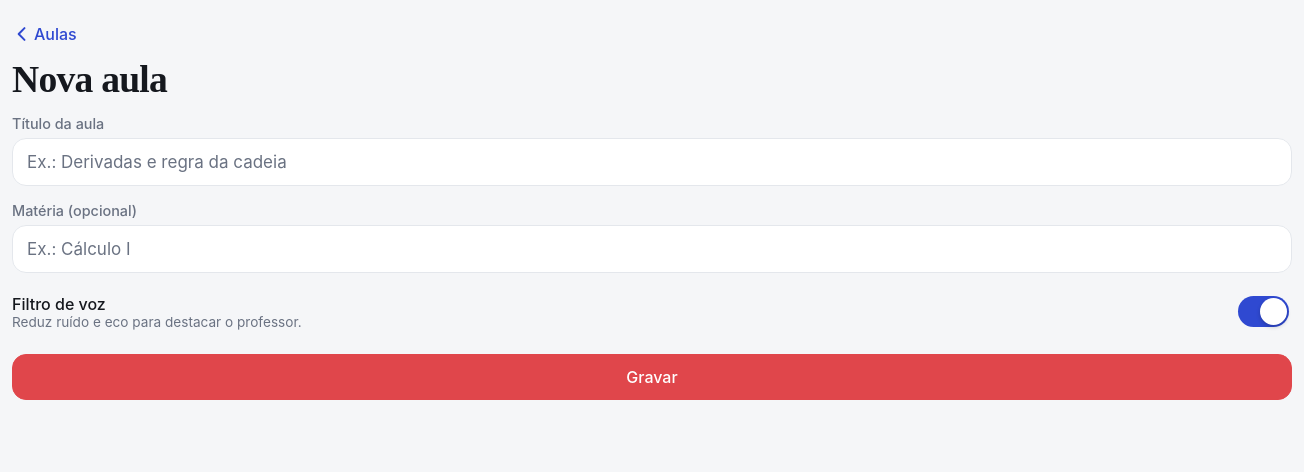
RecordScreen › mostra o erro real do servidor ao criar a aula
Type "Cálculo" into the field labelled "Título da aula" at (652, 162), box [12,138,1292,186]
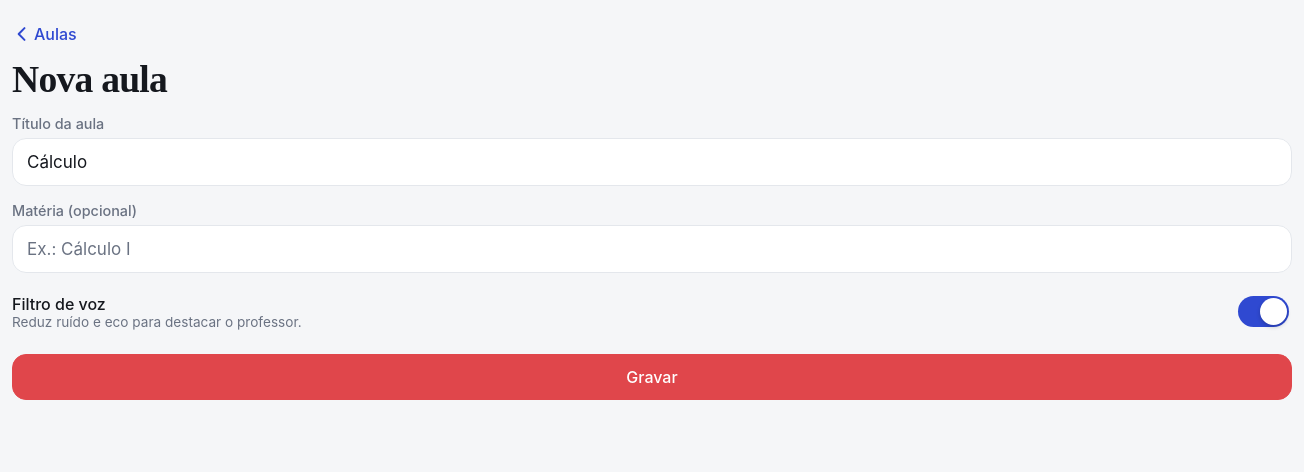
Click the button "Gravar" at (652, 378), box [12,354,1292,400]
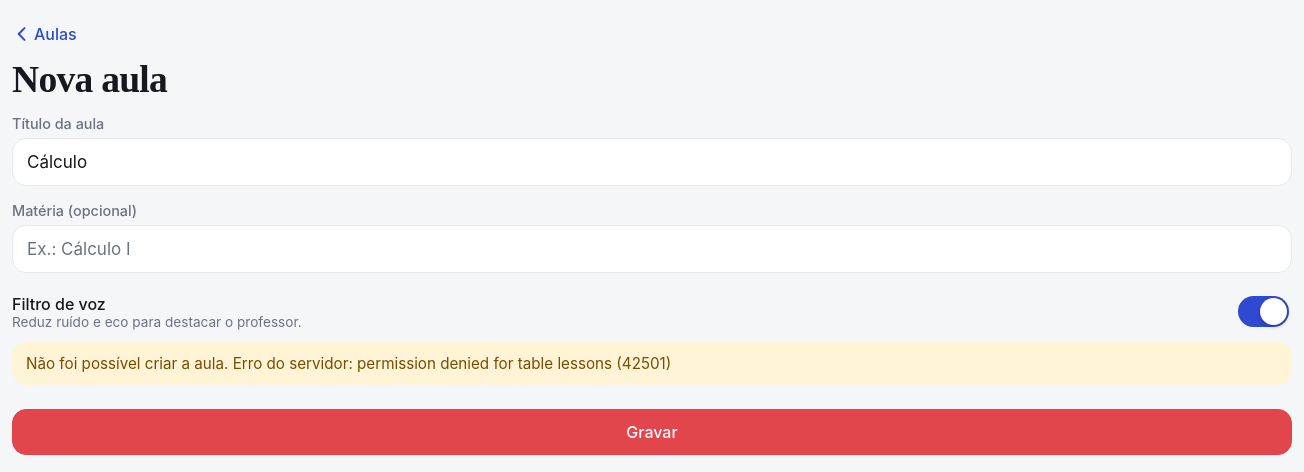
Check: the text "permission denied for table lessons (42501)" is shown, box [26,354,671,374]
